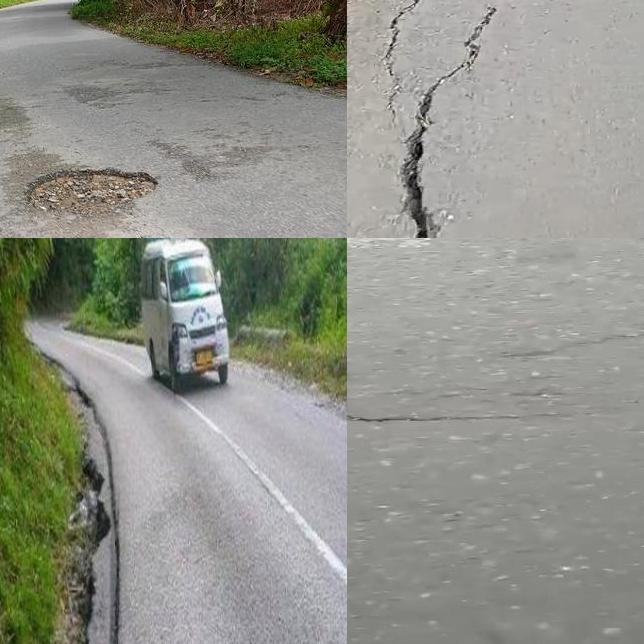Lubang: (29, 172, 157, 219)
Melintang: (347, 398, 551, 444)
Memanjang: (398, 1, 518, 238), (366, 0, 449, 99)
Pinggir: (58, 375, 141, 644)
